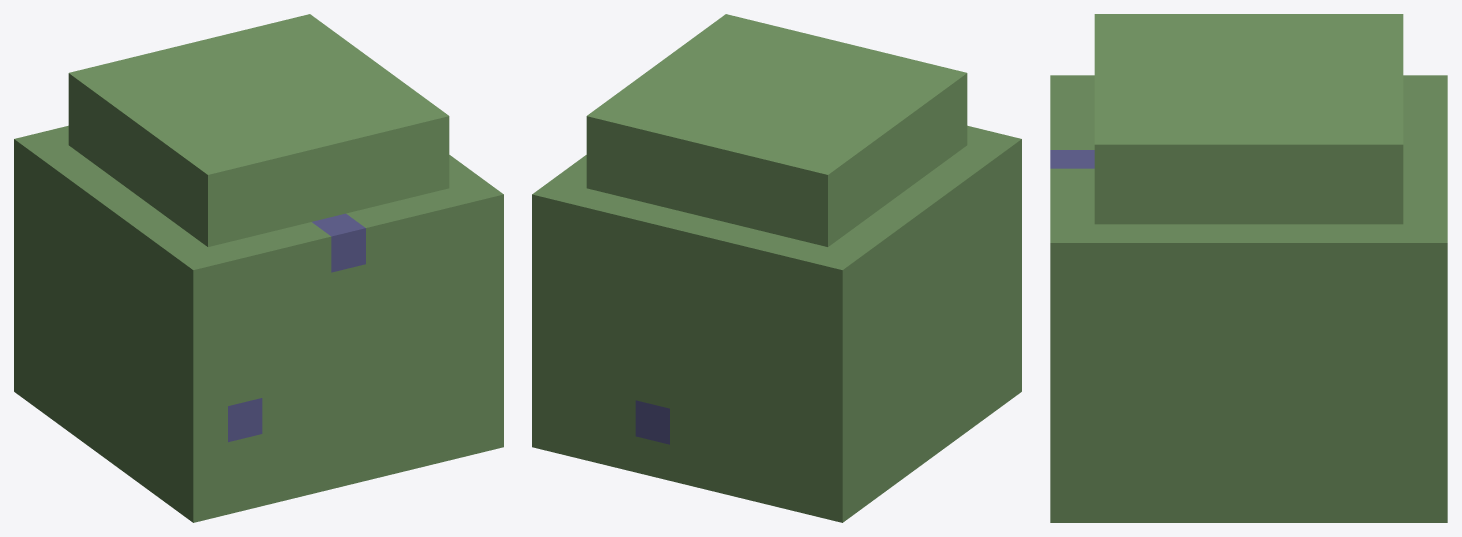
The model's file is arandano_01.glb.
The picture shows the model from 3 angles, left to right: view 1: azimuth 30°, elevation 25°; view 2: azimuth 150°, elevation 25°; view 3: azimuth 270°, elevation 25°; orthographic projection. The views are drawn at different scales.
Parts seen in each view (by area): view 1: arandano_01; view 2: arandano_01; view 3: arandano_01.
Part boxes in pixels (left/top/right/bottom): arandano_01: left=14, top=14, right=503, bottom=522; arandano_01: left=532, top=14, right=1021, bottom=522; arandano_01: left=1050, top=14, right=1447, bottom=522.
Bounding box in the file's own units: 0.9 × 0.9 × 0.9.
